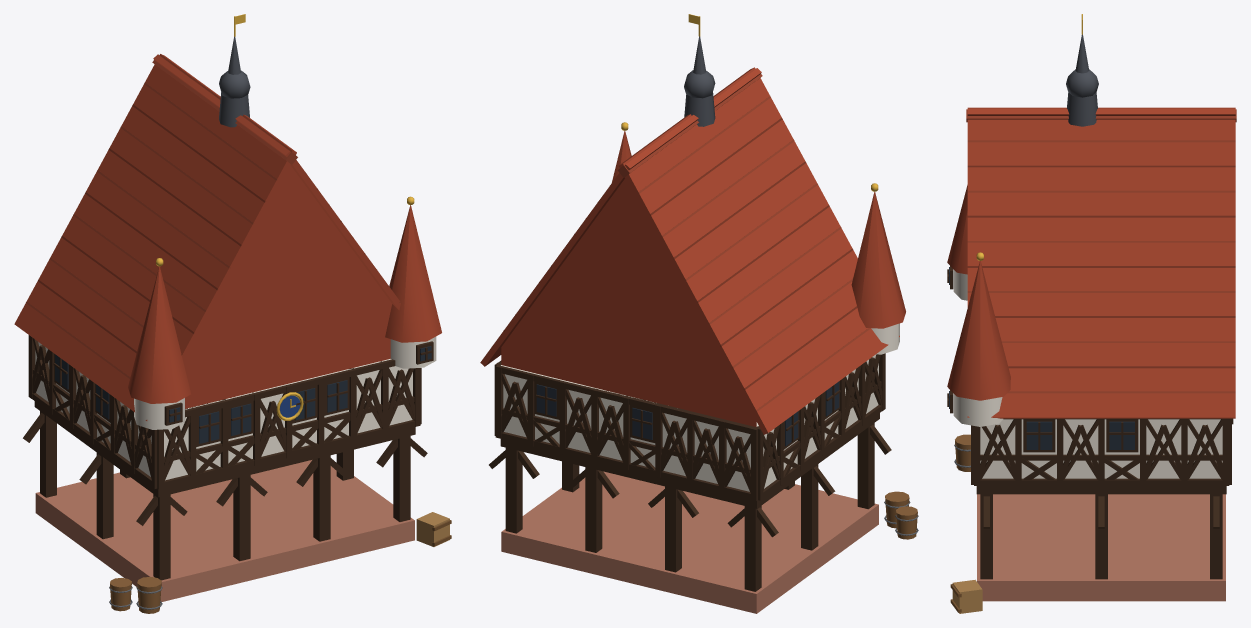
The model's file is lager.glb.
3 renders of one model, left to right at view 1: azimuth 30°, elevation 25°; view 2: azimuth 150°, elevation 25°; view 3: azimuth 270°, elevation 25°, orthographic.
Size of the model in its own units: 5.99 by 9.05 by 4.54.
